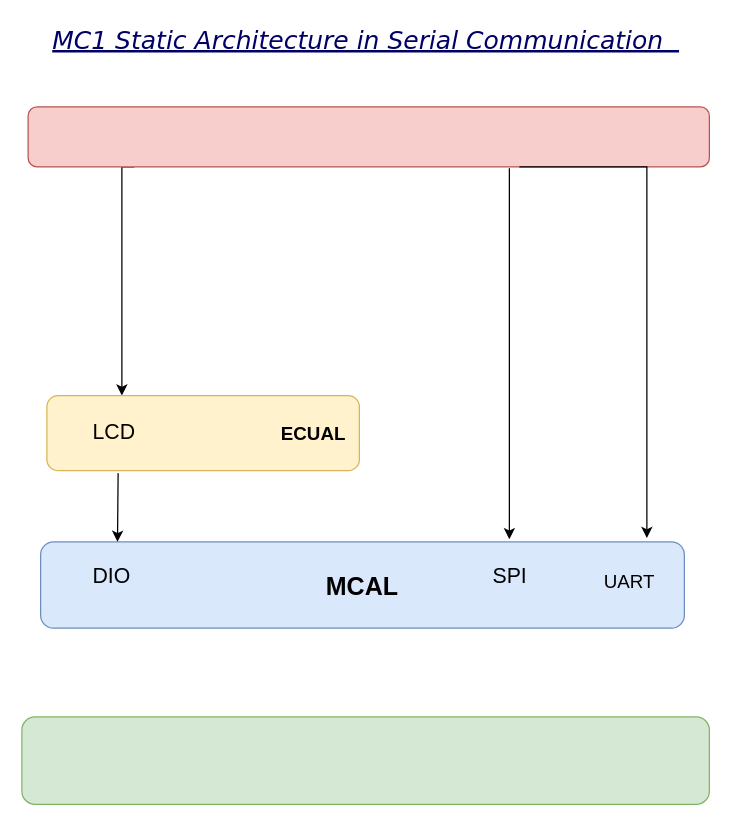
Some shapes in this 731 by 826 pixel diagram are drawn without their labels. The box of each missing label's shape, as (x1, y1, x2, y2) in pixels:
APP layer: (27, 106, 709, 167)
Hardware registers: (21, 716, 709, 804)
